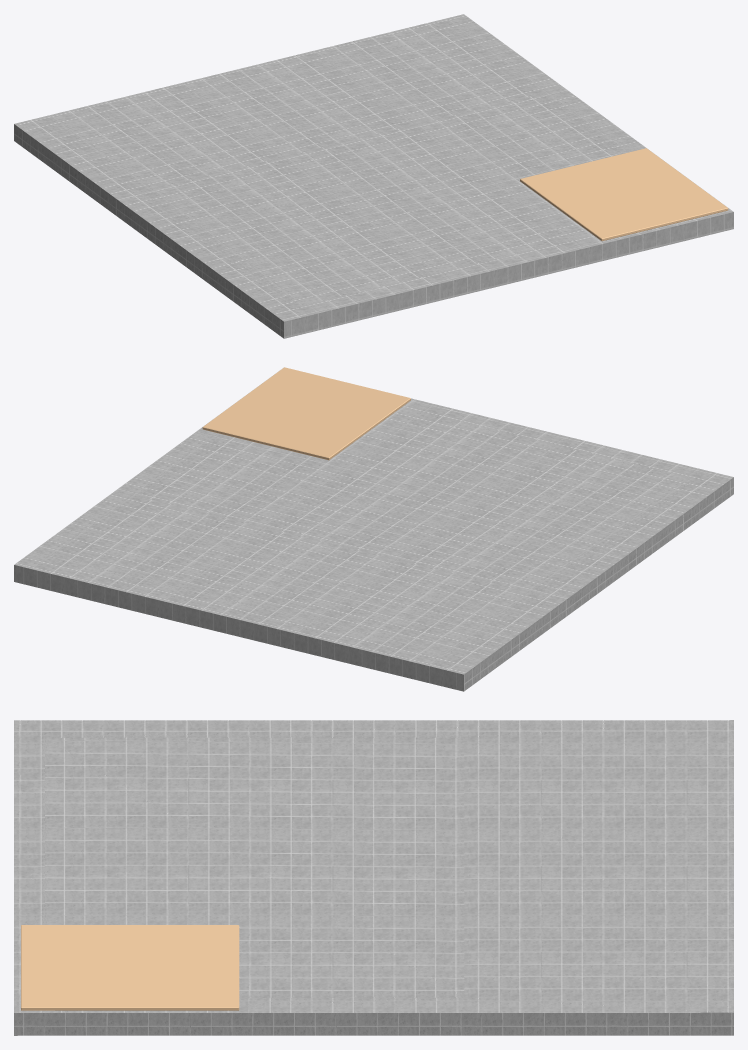
Rendered from Floor_ba021df2.obj.
The picture shows the model from 3 angles, top to bottom: view 1: azimuth 30°, elevation 25°; view 2: azimuth 150°, elevation 25°; view 3: azimuth 270°, elevation 25°; orthographic projection. The views are drawn at different scales.
Visible parts, largest first — view 1: mesh_0662481f, FP411:polySurface106_cfe8041c; view 2: mesh_0662481f, FP411:polySurface106_cfe8041c; view 3: mesh_0662481f, FP411:polySurface106_cfe8041c.
Boxes of the visible parts, left/top/right/bottom form: mesh_0662481f: left=14, top=14, right=733, bottom=338; FP411:polySurface106_cfe8041c: left=520, top=148, right=728, bottom=241; mesh_0662481f: left=14, top=370, right=733, bottom=691; FP411:polySurface106_cfe8041c: left=202, top=367, right=410, bottom=460; mesh_0662481f: left=14, top=720, right=733, bottom=1035; FP411:polySurface106_cfe8041c: left=21, top=925, right=239, bottom=1010.
Size of the model in its own units: 4.02 by 0.1713 by 4.18.
